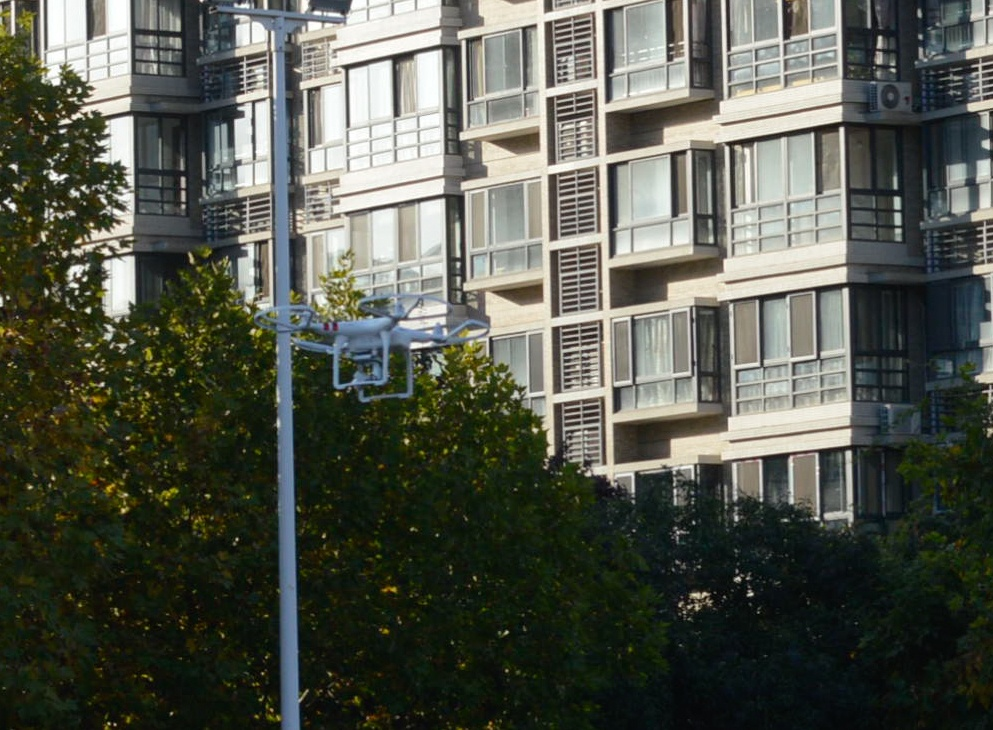DJI: (252, 294, 492, 405)
